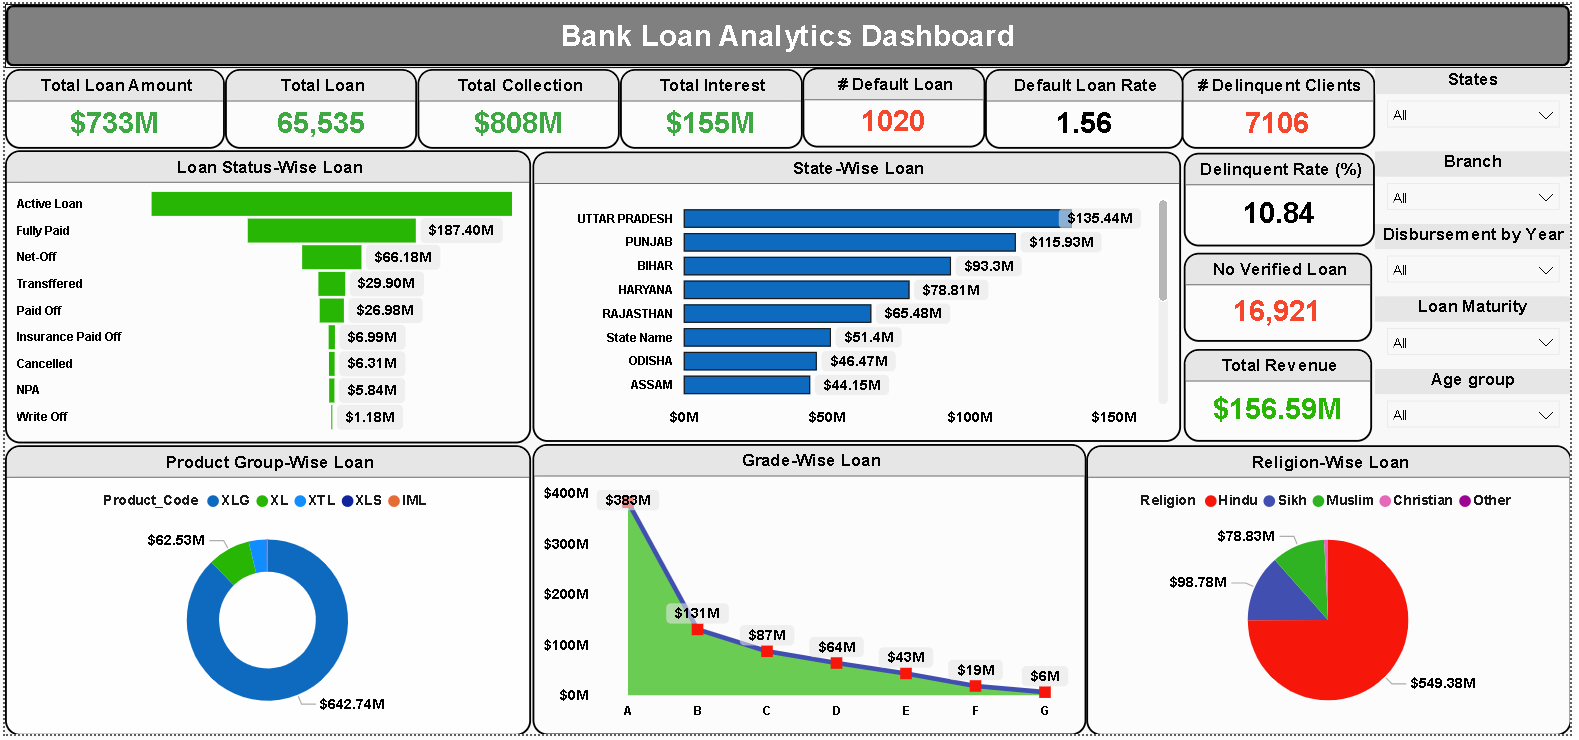

The page's visual inventory and layout, read from the dashboard file:
{"tool":"tableau","page":{"name":"Bank Loan Analysis Dashboard","canvas":[1000,1000],"units":"permille","ordinal":0},"visuals":[{"type":"image","param":"C:/Users/Vikrant/Desktop/Bank.jpg","box":[1.2,2.3,72.7,86]},{"type":"text","box":[73.9,2.3,924.9,86]},{"type":"dashboard-object","box":[861.2,4.7,127.3,80.1]},{"type":"worksheet","title":"KPI 1","mark":"Automatic","box":[1.2,89.4,121.2,95.2]},{"type":"worksheet","title":"KPI 2","mark":"Automatic","box":[123,89.4,121.2,95.2]},{"type":"worksheet","title":"KPI 3","mark":"Automatic","box":[244.8,89.4,121.2,95.2]},{"type":"worksheet","title":"KPI 4","mark":"Automatic","box":[366.7,89.4,121.2,95.2]},{"type":"worksheet","title":"KPI 11","mark":"Automatic","box":[488.5,89.4,121.2,95.2]},{"type":"worksheet","title":"KPI 14","mark":"Automatic","box":[610.3,89.4,121.2,95.2]},{"type":"worksheet","title":"KPI 12","mark":"Automatic","box":[732.1,89.4,128.5,95.2]},{"type":"worksheet","title":"KPI 13","mark":"Automatic","box":[861.2,89.4,137.6,95.2]},{"type":"worksheet","title":"KPI 17","mark":"Automatic","box":[1.2,185.8,121.2,95.2]},{"type":"worksheet","title":"KPI 5B","mark":"Automatic","box":[123.6,185.8,121.2,95.2]},{"type":"filter","title":"KPI 6","param":"[federated.0sxxkhg01cxvt013s73hd1tak12m].[none:State_Name:nk]","box":[246.1,187,169.1,92.9]},{"type":"filter","title":"KPI 1","param":"[federated.0sxxkhg01cxvt013s73hd1tak12m].[none:Term_in_month:qk]","box":[416.4,187,147.3,92.9]},{"type":"filter","title":"KPI 1","param":"[federated.0sxxkhg01cxvt013s73hd1tak12m].[none:Disbursement_Date_(Years):nk]","box":[564.9,187,157.6,92.9]},{"type":"filter","title":"KPI 1","param":"[federated.0sxxkhg01cxvt013s73hd1tak12m].[none:Age :nk]","box":[723,187,123,92.9]},{"type":"filter","title":"KPI 1","param":"[federated.0sxxkhg01cxvt013s73hd1tak12m].[none:Branch_Name:nk]","box":[846.7,187,150.9,92.9]},{"type":"worksheet","title":"KPI 6","mark":"Automatic","rows":["State_Name"],"cols":["Funded_Amount"],"box":[1.2,282.2,363.6,379.8]},{"type":"worksheet","title":"KPI 7","mark":"Pie","box":[365.4,282.2,297,379.8]},{"type":"worksheet","title":"KPI 10","mark":"Automatic","box":[663,282.2,333.3,379.8]},{"type":"worksheet","title":"KPI 5","mark":"Automatic","rows":["Branch_Name"],"box":[1.2,663.2,363.6,335.7]},{"type":"worksheet","title":"KPI 15","mark":"Automatic","rows":["Funded_Amount"],"cols":["Loan_Status"],"box":[365.4,663.2,297,335.7]},{"type":"worksheet","title":"KPI 8","mark":"Circle","box":[663,663.2,332.7,335.7]}]}

Visuals, with their boxes on the dashboard's canvas, which has no fixed pixel size, in thousandths of its width and height (x1, y1, x2, y2). These are canvas units, not pixel positions in the 1579x740 screenshot, which may show the page scaled, cropped or inside an application window:
image: [x1=1, y1=2, x2=74, y2=88]
text: [x1=74, y1=2, x2=999, y2=88]
dashboard-object: [x1=861, y1=5, x2=988, y2=85]
"KPI 1" worksheet: [x1=1, y1=89, x2=122, y2=185]
"KPI 2" worksheet: [x1=123, y1=89, x2=244, y2=185]
"KPI 3" worksheet: [x1=245, y1=89, x2=366, y2=185]
"KPI 4" worksheet: [x1=367, y1=89, x2=488, y2=185]
"KPI 11" worksheet: [x1=488, y1=89, x2=610, y2=185]
"KPI 14" worksheet: [x1=610, y1=89, x2=732, y2=185]
"KPI 12" worksheet: [x1=732, y1=89, x2=861, y2=185]
"KPI 13" worksheet: [x1=861, y1=89, x2=999, y2=185]
"KPI 17" worksheet: [x1=1, y1=186, x2=122, y2=281]
"KPI 5B" worksheet: [x1=124, y1=186, x2=245, y2=281]
"KPI 6" filter: [x1=246, y1=187, x2=415, y2=280]
"KPI 1" filter: [x1=416, y1=187, x2=564, y2=280]
"KPI 1" filter: [x1=565, y1=187, x2=722, y2=280]
"KPI 1" filter: [x1=723, y1=187, x2=846, y2=280]
"KPI 1" filter: [x1=847, y1=187, x2=998, y2=280]
"KPI 6" worksheet: [x1=1, y1=282, x2=365, y2=662]
"KPI 7" worksheet (Pie marks): [x1=365, y1=282, x2=662, y2=662]
"KPI 10" worksheet: [x1=663, y1=282, x2=996, y2=662]
"KPI 5" worksheet: [x1=1, y1=663, x2=365, y2=999]
"KPI 15" worksheet: [x1=365, y1=663, x2=662, y2=999]
"KPI 8" worksheet (Circle marks): [x1=663, y1=663, x2=996, y2=999]
